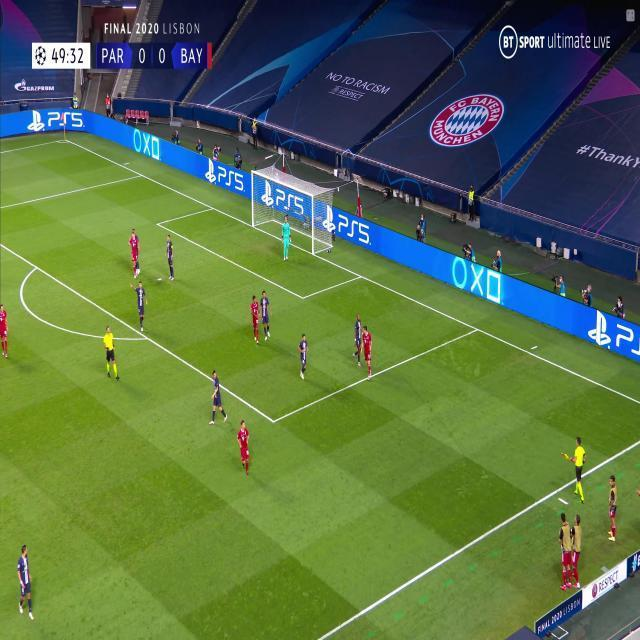goalkeeper: (280, 216, 292, 262)
player: (16, 545, 35, 618), (208, 370, 227, 425), (236, 418, 251, 475), (133, 280, 147, 331), (362, 324, 374, 382), (352, 313, 364, 369), (128, 229, 141, 279), (260, 289, 272, 341), (297, 332, 309, 380), (164, 234, 176, 281), (250, 293, 261, 344), (0, 301, 9, 358)
referee: (560, 436, 588, 505), (103, 326, 120, 381)
